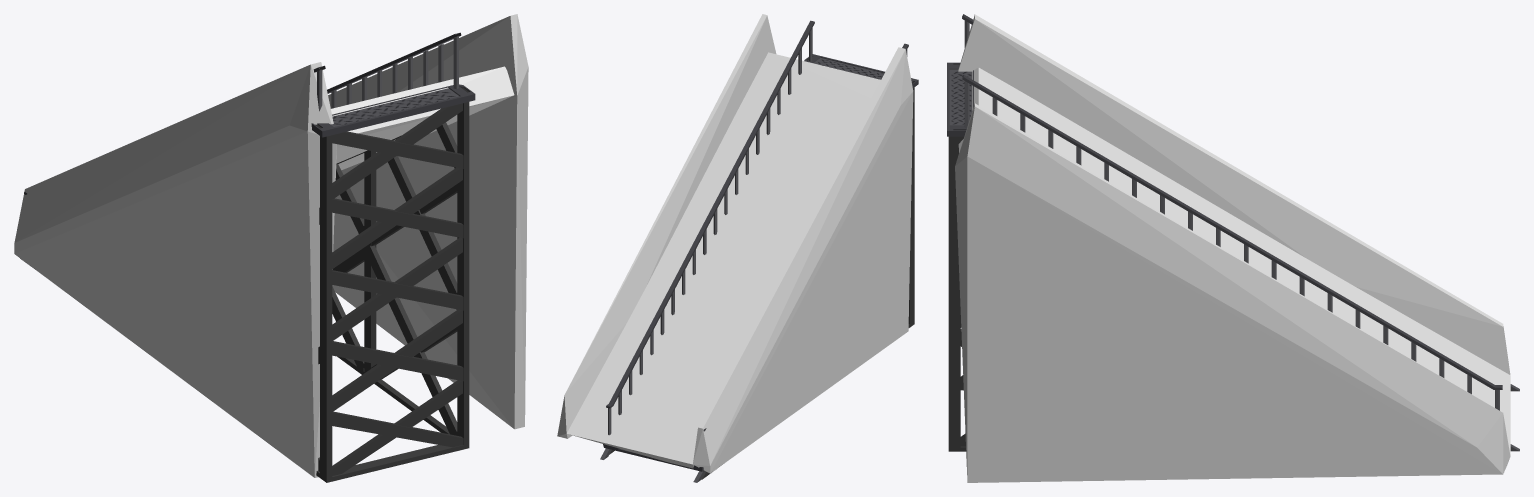
Rendered from SM_Prop_Stairs_01.fbx.
The picture shows the model from 3 angles, left to right: view 1: azimuth 30°, elevation 25°; view 2: azimuth 150°, elevation 25°; view 3: azimuth 270°, elevation 25°; orthographic projection. The views are drawn at different scales.
Parts seen in each view (by area): view 1: SM_Prop_Stairs_01_ConvexHulls, SM_Prop_Stairs_01_LOD0; view 2: SM_Prop_Stairs_01_ConvexHulls, SM_Prop_Stairs_01_LOD0; view 3: SM_Prop_Stairs_01_ConvexHulls, SM_Prop_Stairs_01_LOD0.
Part boxes in pixels (x1,y1,x2,y2): SM_Prop_Stairs_01_ConvexHulls: (14,14,528,477); SM_Prop_Stairs_01_LOD0: (20,32,475,482); SM_Prop_Stairs_01_ConvexHulls: (557,14,913,473); SM_Prop_Stairs_01_LOD0: (600,20,918,482); SM_Prop_Stairs_01_ConvexHulls: (955,14,1510,482); SM_Prop_Stairs_01_LOD0: (947,14,1519,451).
Bounding box in the file's own units: 804 × 327 × 583.
Materials: 1 (1 with a texture image).
